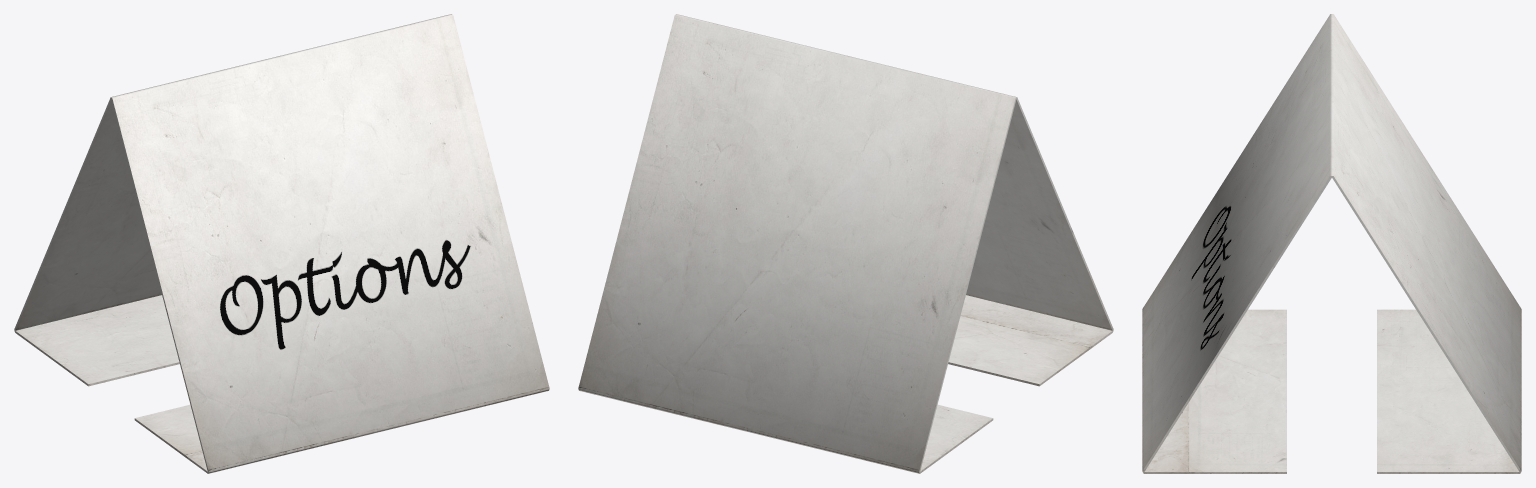
The model's file is Ecriteau.FBX.
3 views of the same model, side by side, from view 1: azimuth 30°, elevation 25°; view 2: azimuth 150°, elevation 25°; view 3: azimuth 270°, elevation 25° (orthographic). The views are drawn at different scales.
Visible parts, largest first — view 1: Cylinder001; view 2: Cylinder001; view 3: Cylinder001.
Boxes of the visible parts, bbox=[...] form: Cylinder001: bbox=[14, 14, 549, 473]; Cylinder001: bbox=[578, 14, 1113, 473]; Cylinder001: bbox=[1142, 14, 1521, 473].
Bounding box in the file's own units: 52.83 × 45.25 × 52.26.
